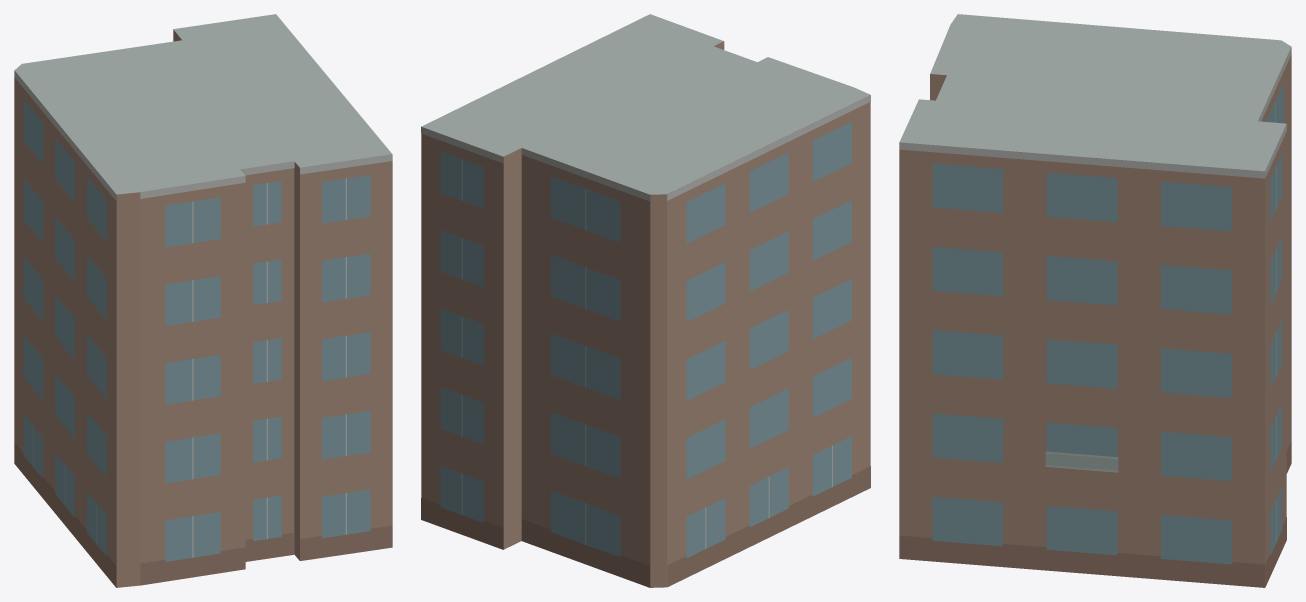
File: survey-upis-32901947.glb
The picture shows the model from 3 angles, left to right: view 1: azimuth 30°, elevation 25°; view 2: azimuth 150°, elevation 25°; view 3: azimuth 270°, elevation 25°; orthographic projection. The views are drawn at different scales.
Visible parts, largest first — view 1: survey-upis-32901947.tmp; view 2: survey-upis-32901947.tmp; view 3: survey-upis-32901947.tmp.
Part boxes in pixels (bbox=[...]): survey-upis-32901947.tmp: bbox=[14, 14, 392, 587]; survey-upis-32901947.tmp: bbox=[421, 14, 870, 587]; survey-upis-32901947.tmp: bbox=[899, 14, 1291, 587].
Bounding box in the file's own units: 11.44 × 14.1 × 12.05.
